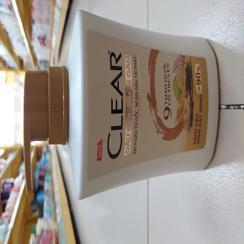clear: (18, 9, 221, 212)
